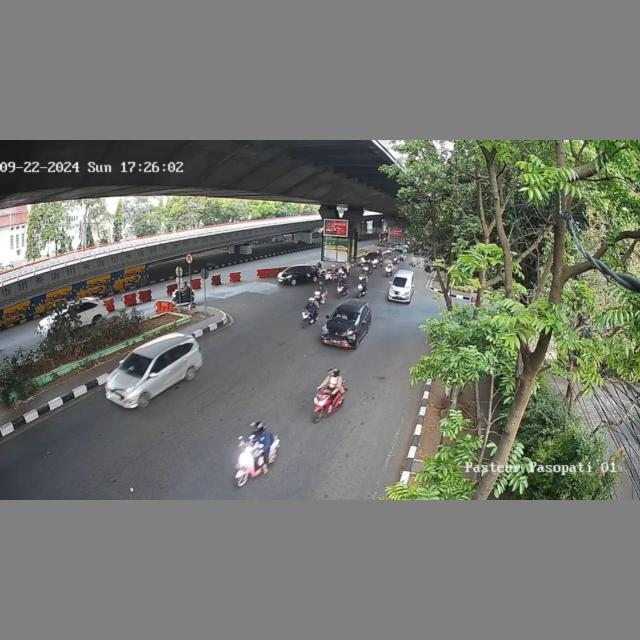windshield: (122, 352, 154, 377), (330, 310, 360, 324), (393, 277, 412, 288)
